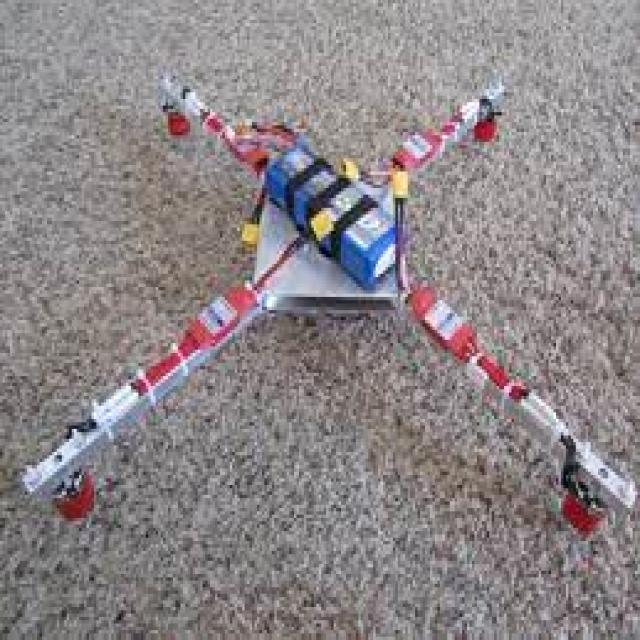drone: (33, 59, 628, 592)
